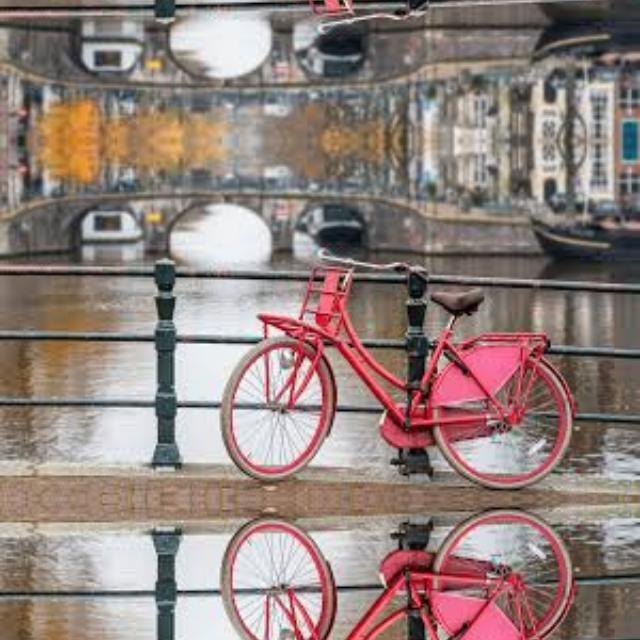obstacle: (224, 240, 584, 498), (224, 499, 583, 640), (224, 0, 583, 39)
